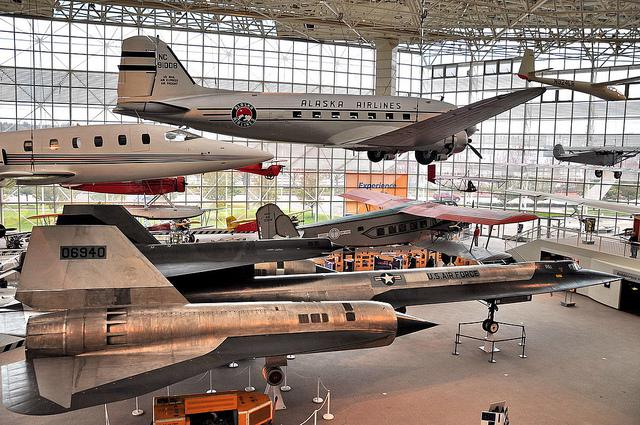Airplane: (16, 206, 626, 374), (112, 35, 548, 168), (1, 122, 290, 219), (257, 188, 540, 266), (514, 49, 629, 103), (554, 145, 640, 180)
